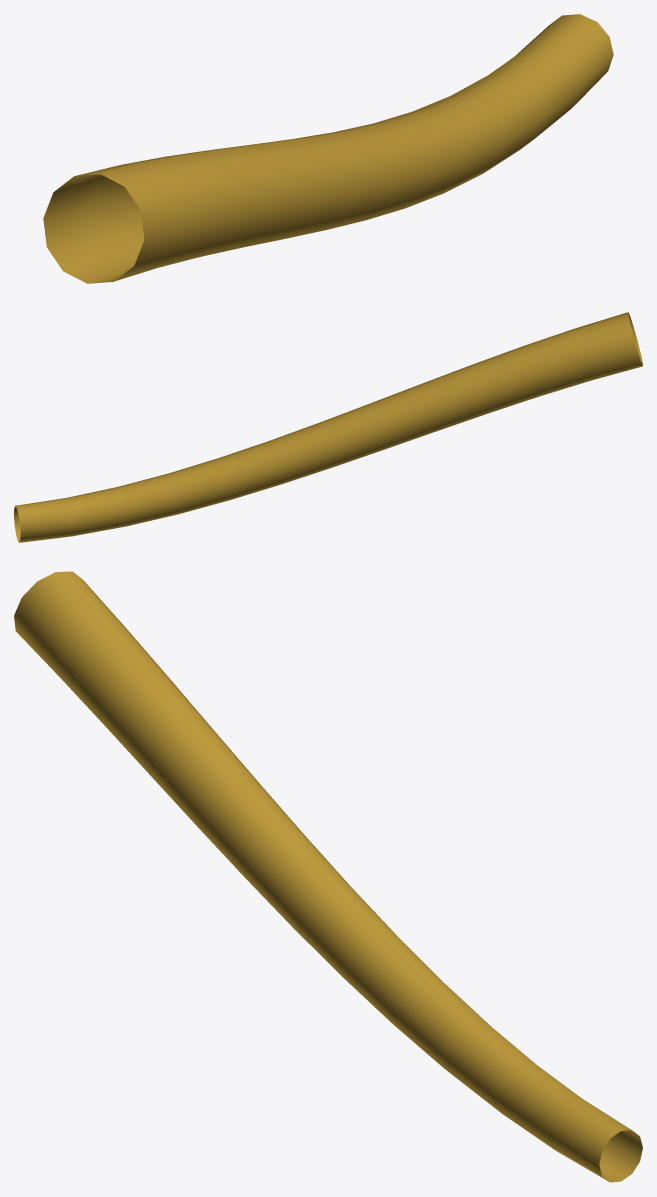
3 renders of one model, top to bottom at view 1: azimuth 30°, elevation 25°; view 2: azimuth 150°, elevation 25°; view 3: azimuth 270°, elevation 25°, orthographic. The views are drawn at different scales.
Visible parts, largest first — view 1: 左侧臂丛中干前股; view 2: 左侧臂丛中干前股; view 3: 左侧臂丛中干前股.
Part boxes in pixels (bbox=[...]): 左侧臂丛中干前股: bbox=[43, 14, 613, 283]; 左侧臂丛中干前股: bbox=[14, 312, 642, 542]; 左侧臂丛中干前股: bbox=[14, 571, 642, 1182].
Bounding box in the file's own units: 0.0412 × 0.0168 × 0.0325.
